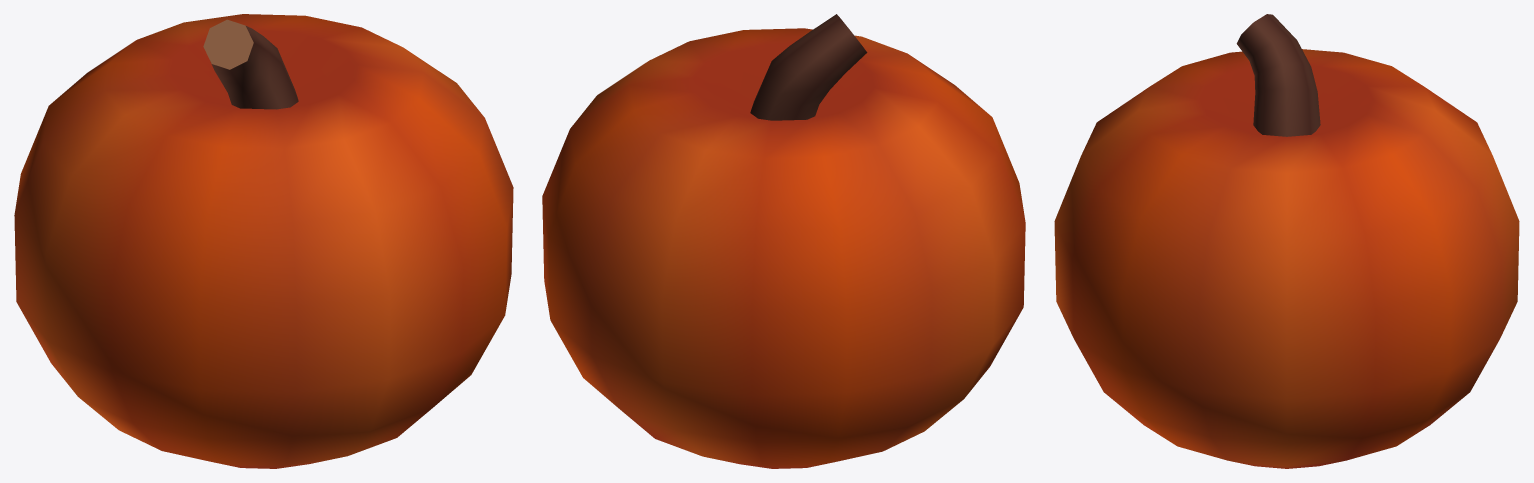
The model's file is consumables-vegetables-pumpkin_v1.glb.
The picture shows the model from 3 angles, left to right: view 1: azimuth 30°, elevation 25°; view 2: azimuth 150°, elevation 25°; view 3: azimuth 270°, elevation 25°; orthographic projection. The views are drawn at different scales.
Visible parts, largest first — view 1: Pumpkin.001; view 2: Pumpkin.001; view 3: Pumpkin.001.
Boxes of the visible parts, bbox=[...] form: Pumpkin.001: bbox=[14, 14, 513, 468]; Pumpkin.001: bbox=[542, 14, 1025, 468]; Pumpkin.001: bbox=[1054, 14, 1519, 468].
Size of the model in its own units: 0.4818 by 0.467 by 0.4818.
